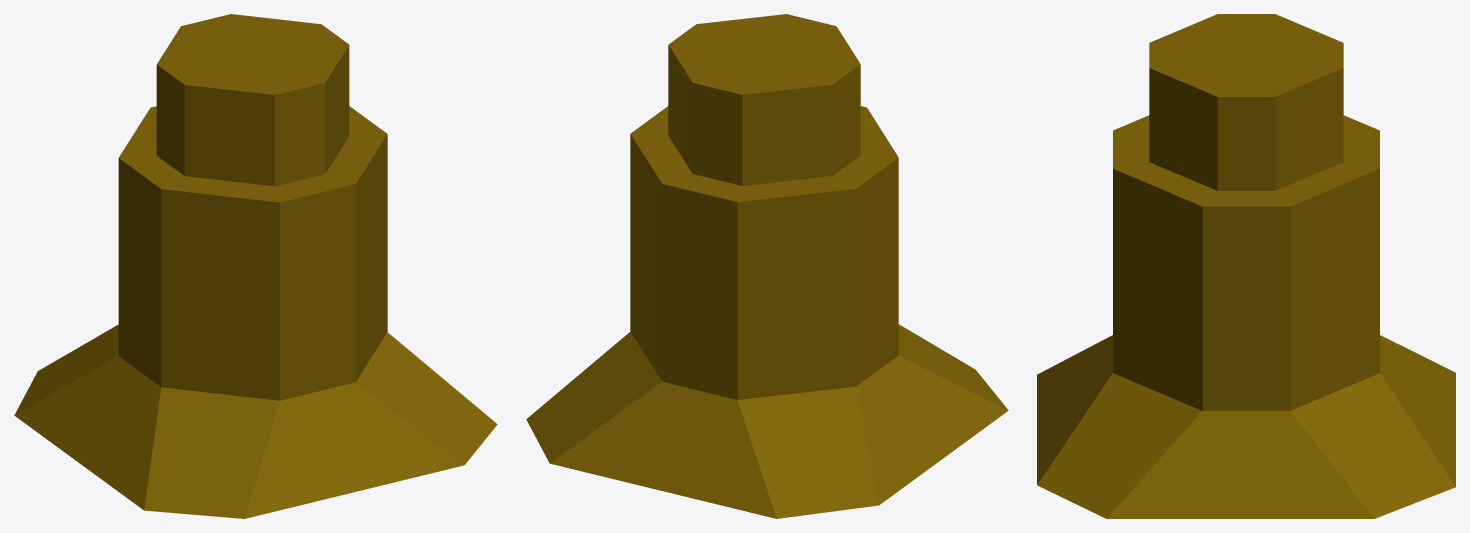
File: mesh_BuildingA_TrimStraightCapBalcony_v2.1.fbx
3 views of the same model, side by side, from view 1: azimuth 30°, elevation 25°; view 2: azimuth 150°, elevation 25°; view 3: azimuth 270°, elevation 25° (orthographic). The views are drawn at different scales.
Parts seen in each view (by area): view 1: mesh_BuildingA_TrimStraightCapBalcony1; view 2: mesh_BuildingA_TrimStraightCapBalcony1; view 3: mesh_BuildingA_TrimStraightCapBalcony1.
Part boxes in pixels (x1=…): mesh_BuildingA_TrimStraightCapBalcony1: x1=14, y1=14, x2=497, y2=518; mesh_BuildingA_TrimStraightCapBalcony1: x1=526, y1=14, x2=1008, y2=518; mesh_BuildingA_TrimStraightCapBalcony1: x1=1037, y1=14, x2=1455, y2=518.
Size of the model in its own units: 49.92 by 49.02 by 49.68.
